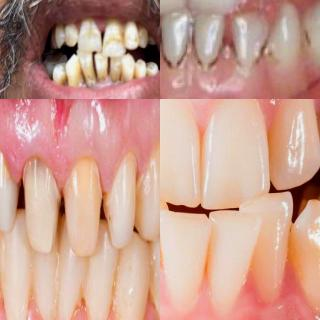Gum Swelling: (0, 99, 160, 197)
calculus: (80, 74, 96, 90), (94, 70, 110, 84), (56, 72, 70, 88), (107, 75, 123, 87)
maligned: (203, 99, 269, 207), (236, 192, 294, 299), (265, 99, 320, 195), (160, 204, 209, 308), (205, 203, 253, 307), (160, 99, 201, 215), (288, 195, 320, 318)
stains: (230, 28, 280, 74), (190, 28, 222, 76), (160, 35, 191, 77), (294, 20, 320, 58)
